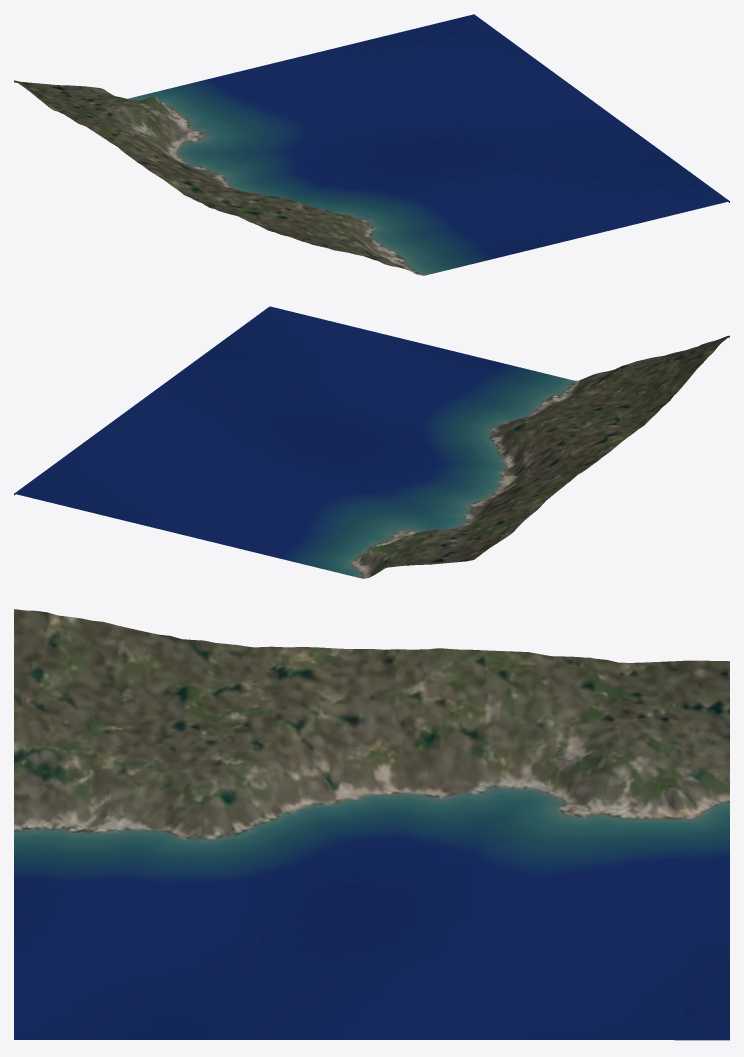
3 renders of one model, top to bottom at view 1: azimuth 30°, elevation 25°; view 2: azimuth 150°, elevation 25°; view 3: azimuth 270°, elevation 25°, orthographic. The views are drawn at different scales.
Bounding box in the file's own units: 250 × 44.28 × 241.
Materials: 1 (1 with a texture image).
